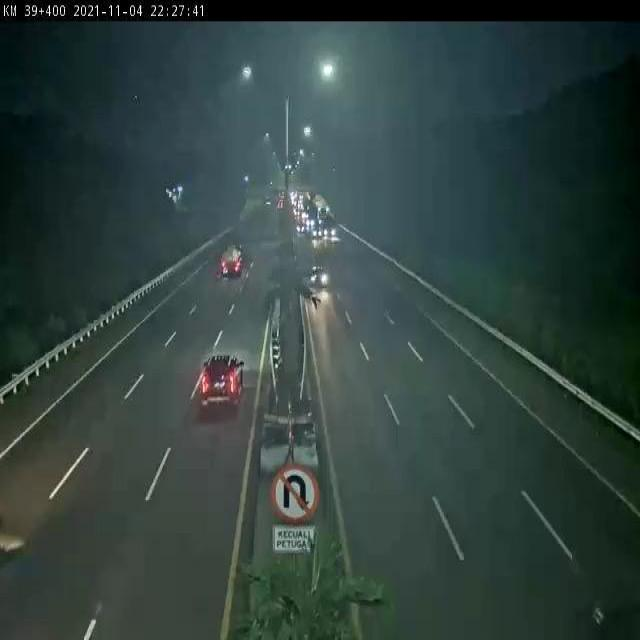car: (201, 356, 245, 411), (309, 266, 329, 290)
truck-l-: (219, 240, 247, 277)
